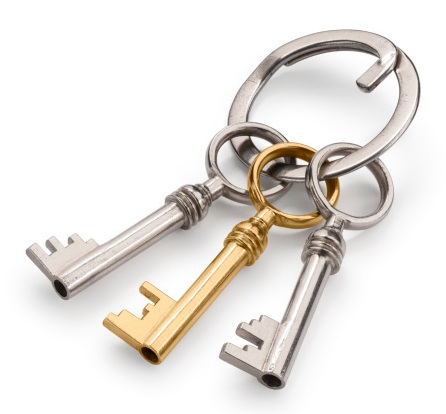key: (28, 71, 396, 396)
